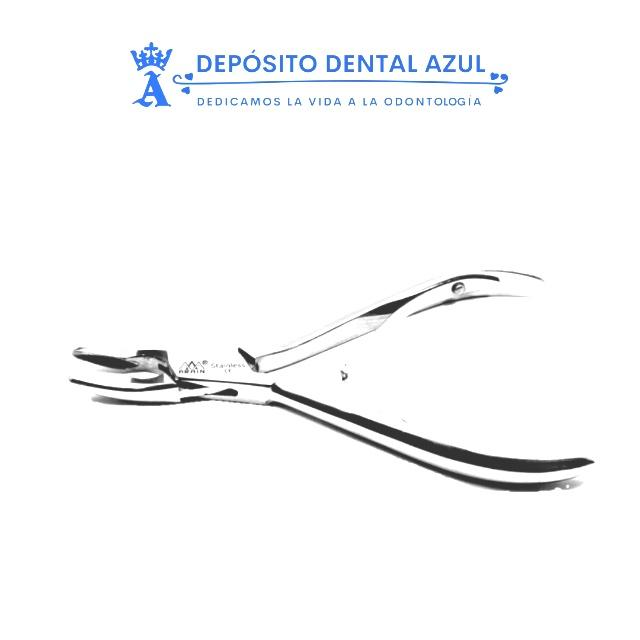gubia: (74, 265, 603, 505)
